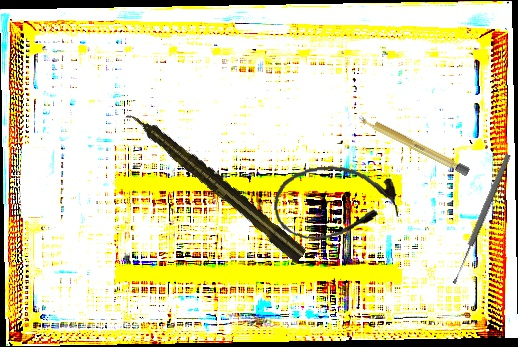Cannula: (271, 160, 400, 244)
Handpiece: (122, 104, 309, 265)
Scalpel Handle: (356, 112, 471, 177)
Surgical Spoon: (449, 153, 513, 285)
